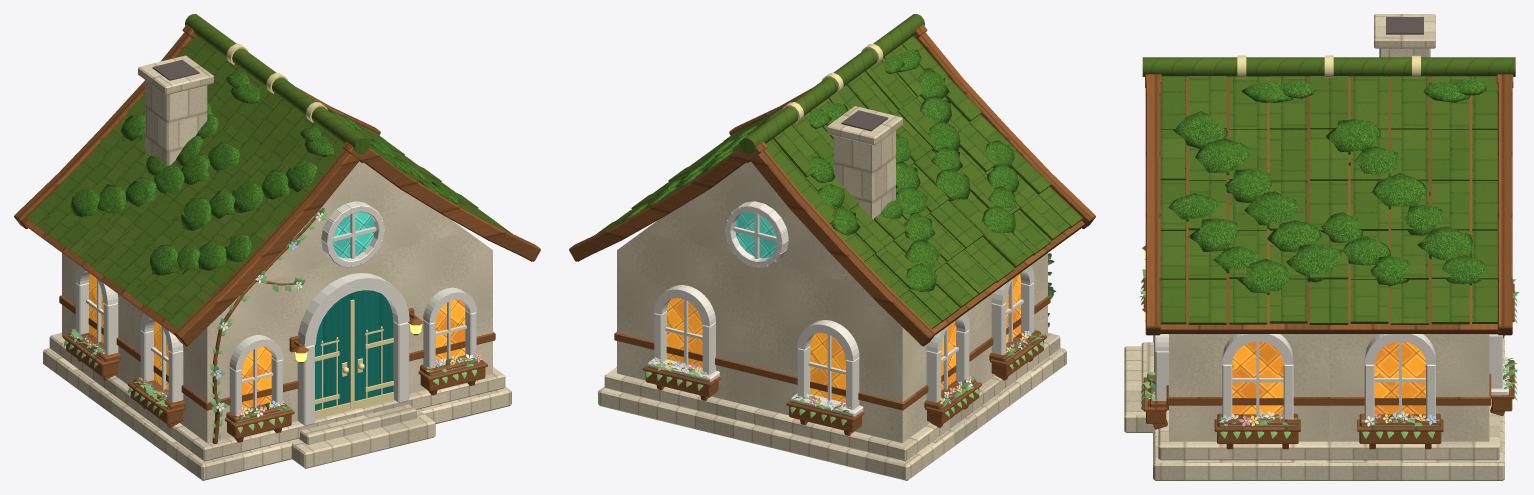
File: cottage-teal-DsNFnDjs.glb
The picture shows the model from 3 angles, left to right: view 1: azimuth 30°, elevation 25°; view 2: azimuth 150°, elevation 25°; view 3: azimuth 270°, elevation 25°; orthographic projection. The views are drawn at different scales.
Parts seen in each view (by area): view 1: cottage-teal; view 2: cottage-teal; view 3: cottage-teal.
Boxes of the visible parts, bbox=[...] form: cottage-teal: bbox=[14, 14, 540, 480]; cottage-teal: bbox=[569, 14, 1095, 480]; cottage-teal: bbox=[1124, 14, 1519, 480].
Bounding box in the file's own units: 6.05 × 4.98 × 5.21.
Materials: 19 (8 with a texture image).
